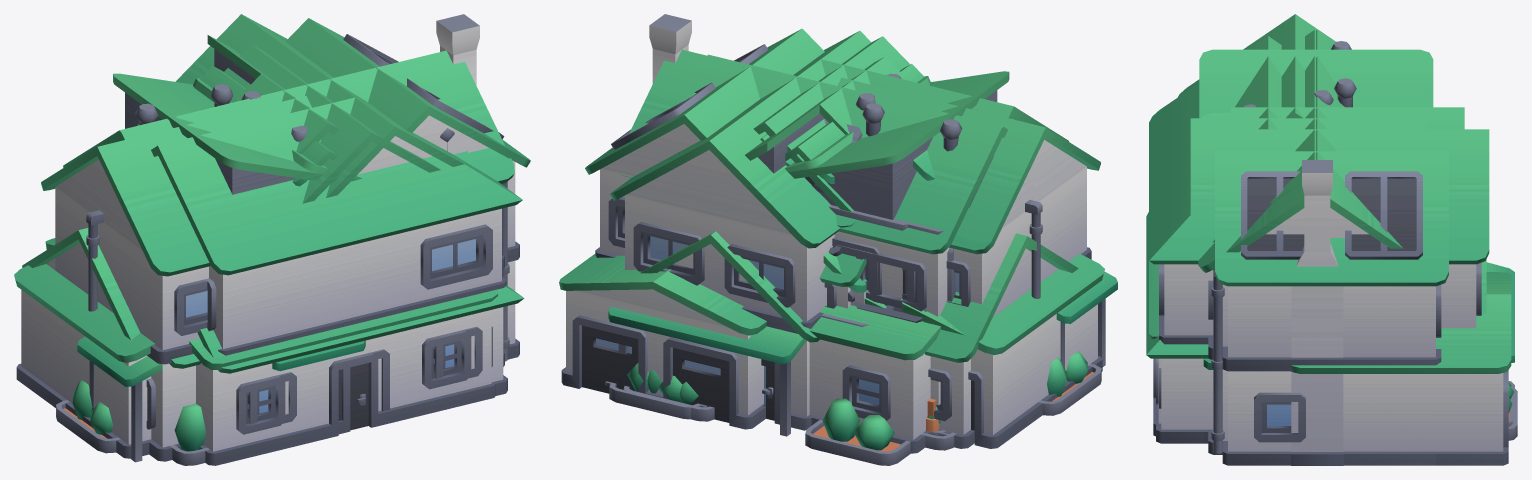
Rendered from suburb.glb.
3 views of the same model, side by side, from view 1: azimuth 30°, elevation 25°; view 2: azimuth 150°, elevation 25°; view 3: azimuth 270°, elevation 25° (orthographic). The views are drawn at different scales.
Visible parts, largest first — view 1: building-type-f, building-type-t, building-type-n, building-type-d, building-type-b, building-type-m, building-type-k, building-type-u, building-type-s, building-type-r, building-type-e, building-type-l; view 2: building-type-n, building-type-f, building-type-d, building-type-t, building-type-b, building-type-e, building-type-k, building-type-m, building-type-r, building-type-s, building-type-u, building-type-o (+4 smaller); view 3: building-type-b, building-type-f, building-type-d, building-type-n, building-type-k, building-type-u, building-type-m, building-type-r, building-type-t, building-type-s, building-type-o, building-type-e.
Boxes of the visible parts, box(x1,y1,x2,y2) form: building-type-f: box(137, 14, 522, 465); building-type-t: box(45, 57, 498, 465); building-type-n: box(41, 96, 365, 462); building-type-d: box(14, 14, 514, 458); building-type-b: box(22, 18, 530, 453); building-type-m: box(197, 285, 524, 434); building-type-k: box(113, 73, 357, 194); building-type-u: box(263, 38, 495, 197); building-type-s: box(224, 44, 440, 203); building-type-r: box(207, 35, 339, 153); building-type-e: box(63, 56, 421, 167); building-type-l: box(193, 78, 362, 179); building-type-n: box(559, 77, 1117, 446); building-type-f: box(608, 59, 1068, 436); building-type-d: box(621, 14, 1104, 448); building-type-t: box(623, 54, 1007, 465); building-type-b: box(585, 28, 1101, 448); building-type-e: box(785, 110, 1007, 316); building-type-k: box(788, 71, 1009, 290); building-type-m: box(609, 231, 819, 419); building-type-r: box(745, 56, 908, 326); building-type-s: box(753, 36, 909, 211); building-type-u: box(720, 31, 956, 450); building-type-o: box(690, 56, 914, 220); building-type-b: box(1211, 151, 1448, 465); building-type-f: box(1149, 36, 1514, 443); building-type-d: box(1198, 47, 1402, 465); building-type-n: box(1178, 14, 1511, 465); building-type-k: box(1199, 49, 1433, 118); building-type-u: box(1190, 129, 1424, 443); building-type-m: box(1146, 212, 1517, 443); building-type-r: box(1230, 90, 1464, 129); building-type-t: box(1149, 30, 1514, 436); building-type-s: box(1190, 104, 1424, 369); building-type-o: box(1317, 72, 1357, 198); building-type-e: box(1316, 30, 1335, 159).
Size of the model in its own units: 1.83 by 1.24 by 1.43.
Materials: 1 (1 with a texture image).
